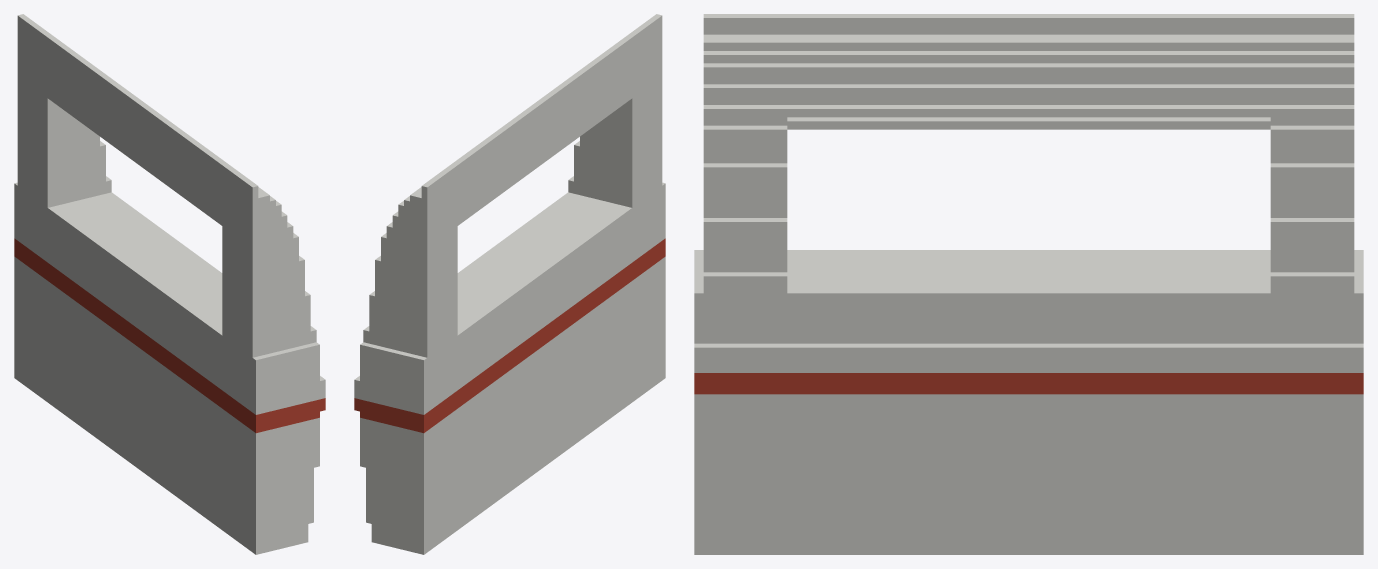
The model's file is caravan_nose_cap.glb.
3 renders of one model, left to right at view 1: azimuth 30°, elevation 25°; view 2: azimuth 150°, elevation 25°; view 3: azimuth 270°, elevation 25°, orthographic. The views are drawn at different scales.
Visible parts, largest first — view 1: body:compound; view 2: body:compound; view 3: body:compound.
Part boxes in pixels (x1,y1,x2,y2): body:compound: (14,14,325,554); body:compound: (354,14,665,554); body:compound: (694,14,1363,554).
Size of the model in its own units: 0.375 by 1.88 by 2.25.
